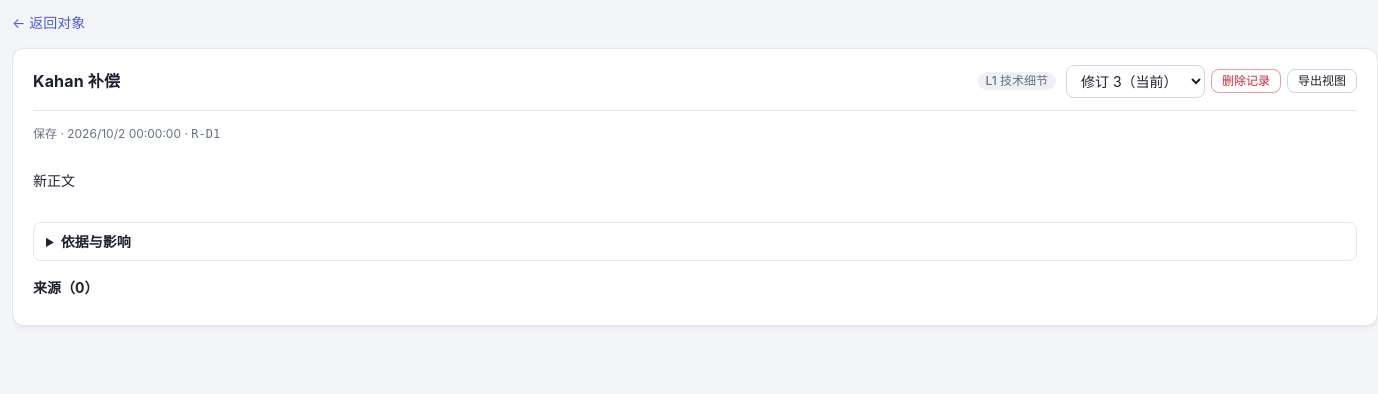
Test: 系统记忆 › 可以回看历史修订
Expected: the text "新正文" is shown, [33, 172, 75, 189]
Select "修订 1" in the dropdown named "查看修订" at x=1136, y=81, box [1066, 65, 1205, 98]
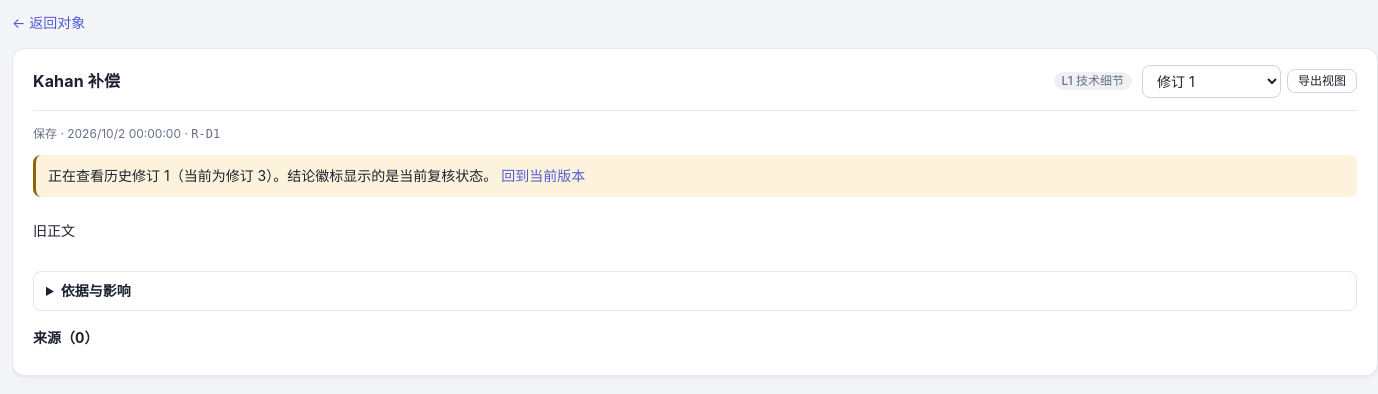
Result: the text "旧正文" is shown at [33, 222, 75, 239]
Result: the text "正在查看历史修订 1（当前为修订 3）。结论徽标显示的是当前复核状态。 回到当前版本" is shown at [33, 155, 1357, 197]
Click the button "回到当前版本" at x=543, y=176, box [501, 165, 585, 187]
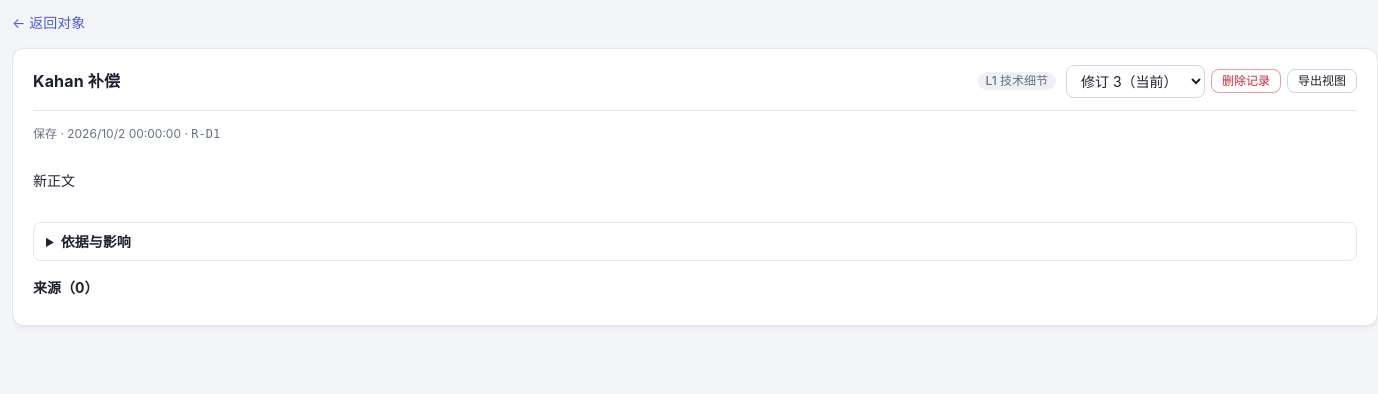
Result: the text "新正文" is shown at [33, 172, 75, 189]
